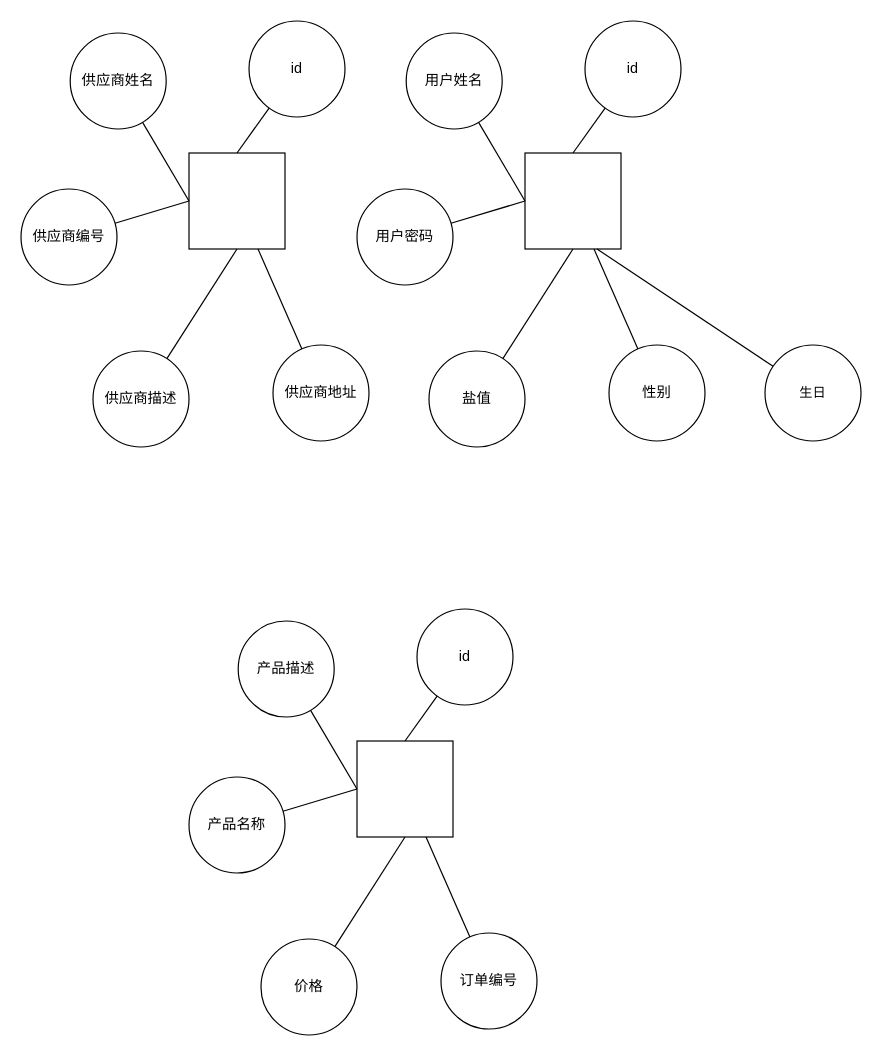
This 882x1056 diagram has some shape labels left out. The centre of each missing label's shape, as x and y in pixels:
"供应商" goes at point (236, 200).
"用户" goes at point (572, 200).
"订单" goes at point (404, 788).
